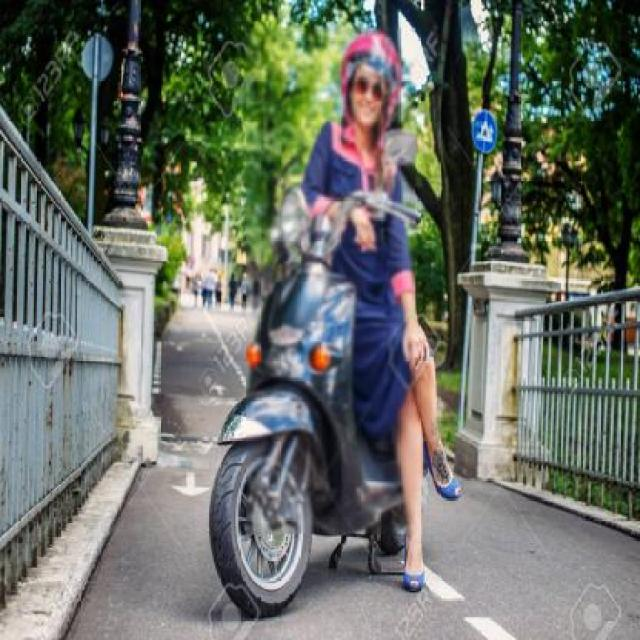helmet: (328, 32, 403, 142)
motorcycle: (197, 27, 489, 618)
